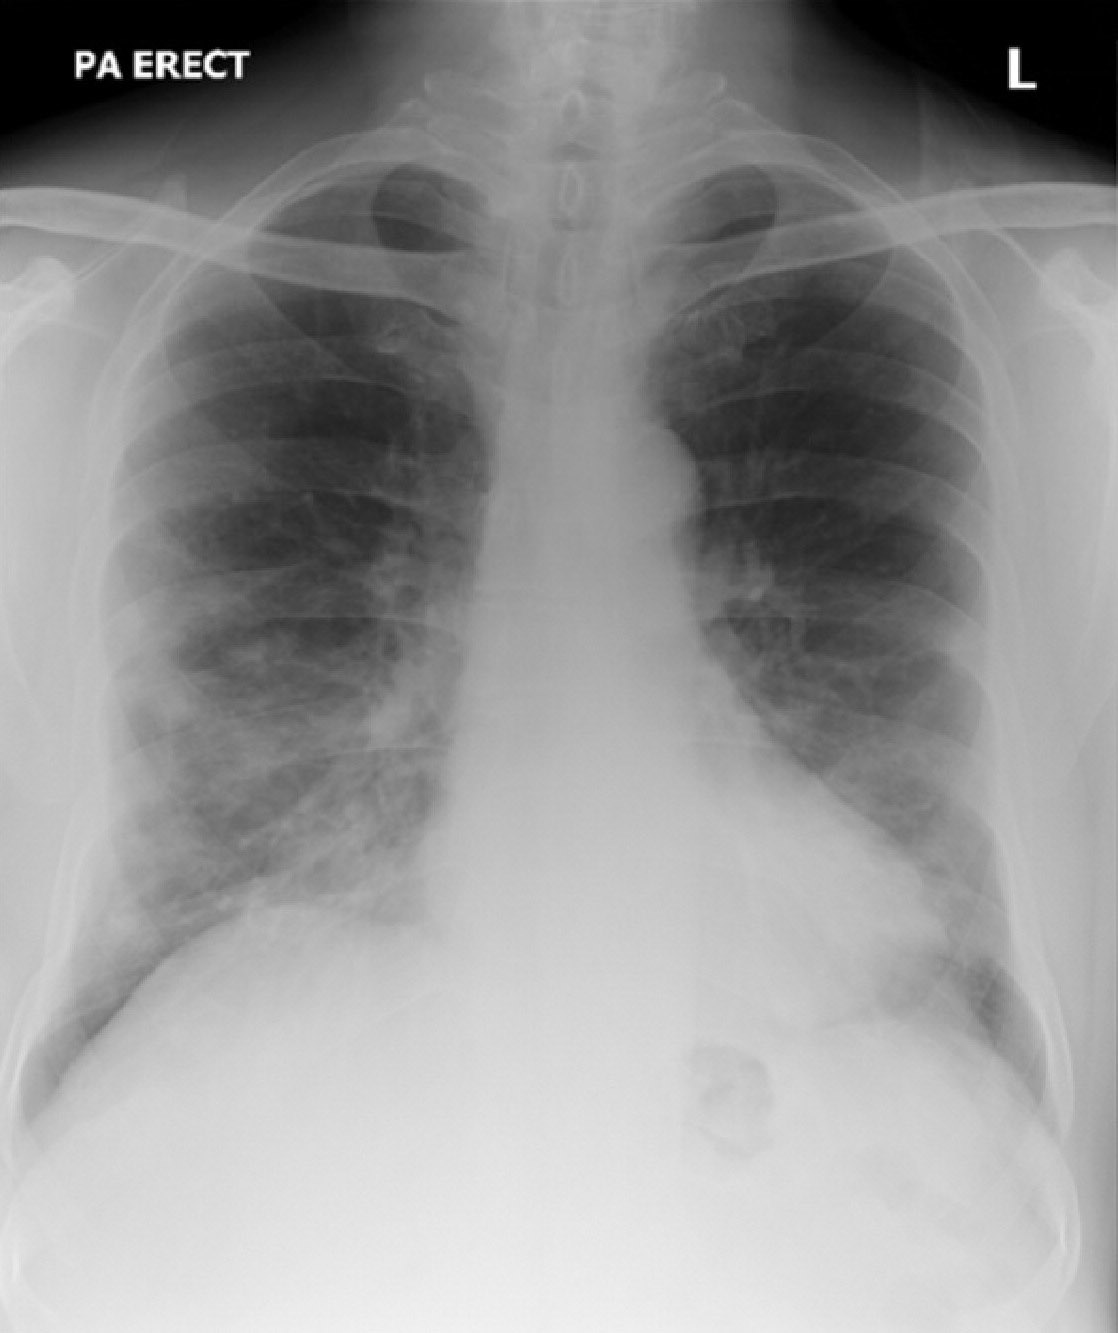Mildw: (77, 167, 509, 964), (652, 166, 989, 883)
